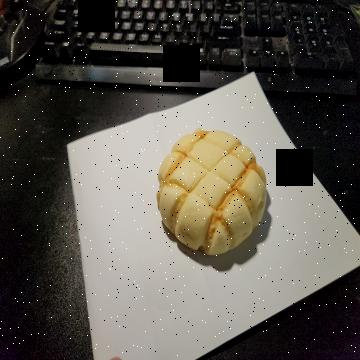melon_bread: (157, 128, 269, 255)
